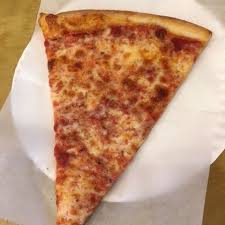pizza: (28, 10, 212, 225)
